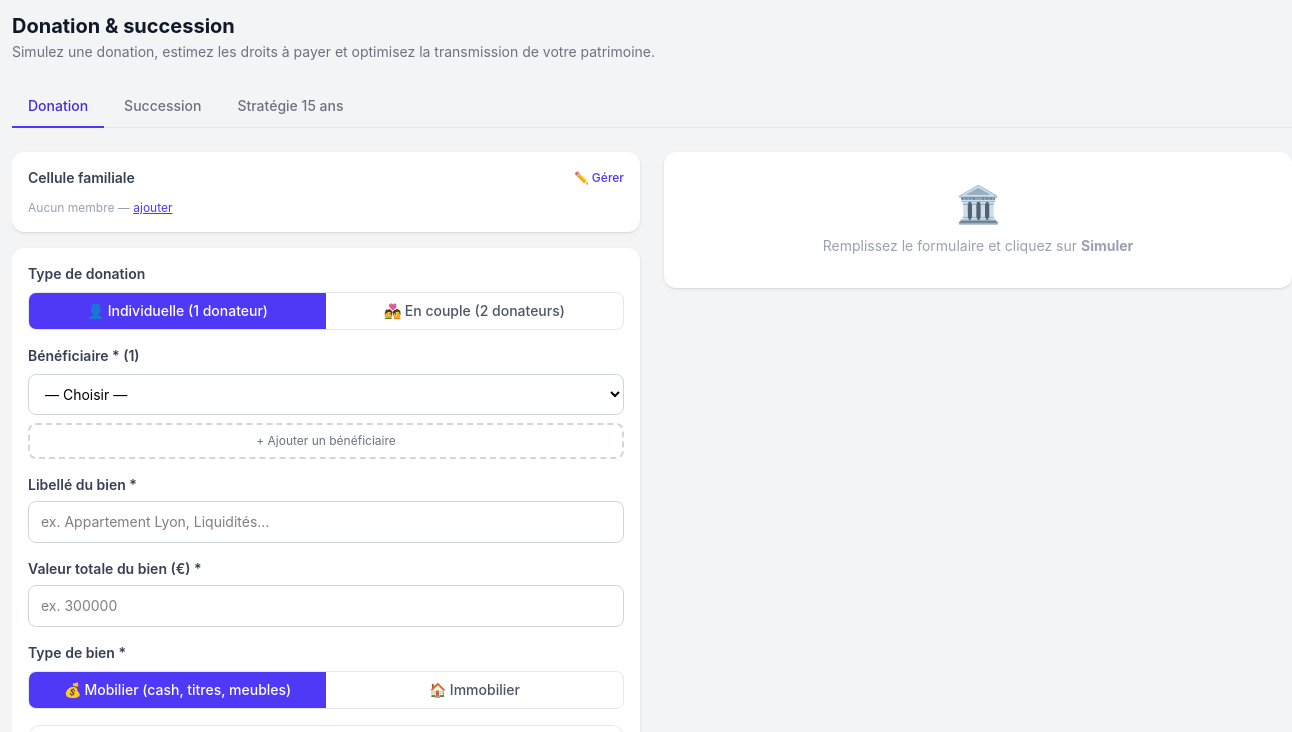
Test case: EstateSimulatorPage › affiche le résultat de la stratégie 15 ans
Click the button "Stratégie 15 ans".
click(290, 107)  # box x1=222 y1=86 x2=360 y2=128
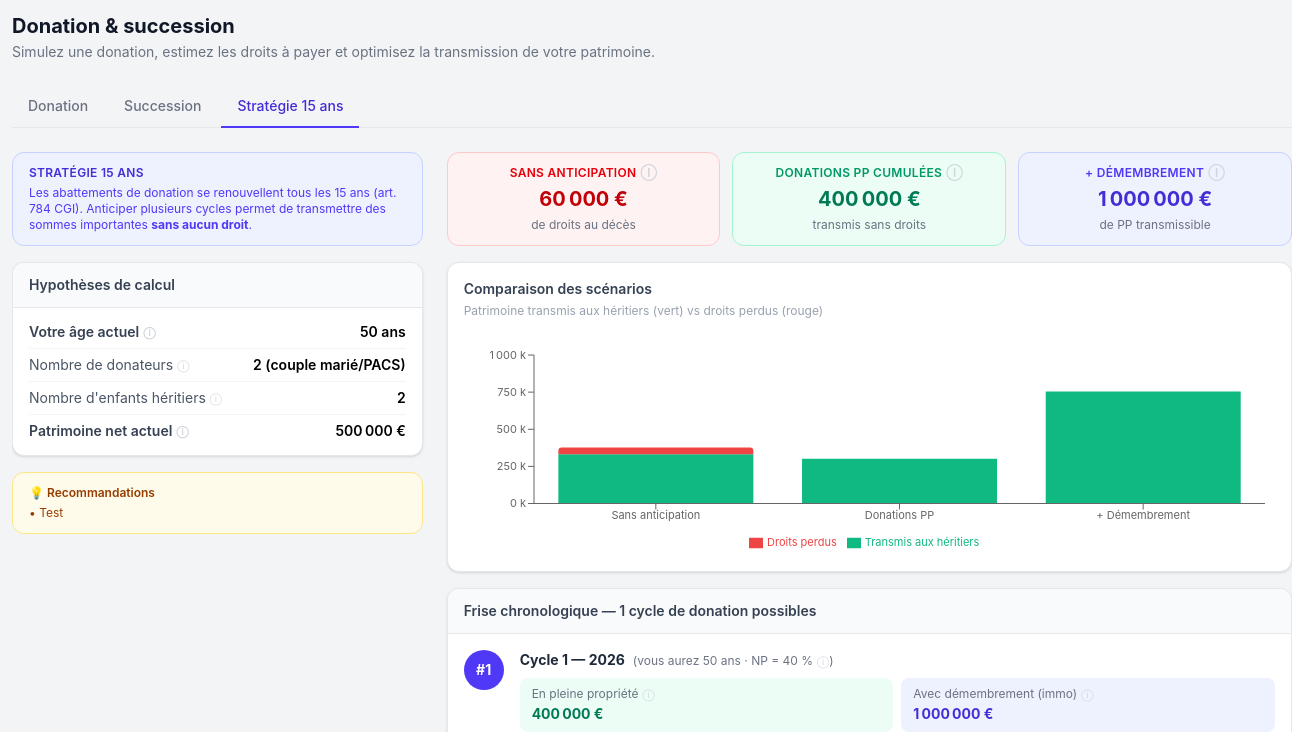
Expected: the text "Frise chronologique — 1 cycle de donation possibles" is shown, x1=464 y1=602 x2=816 y2=619
